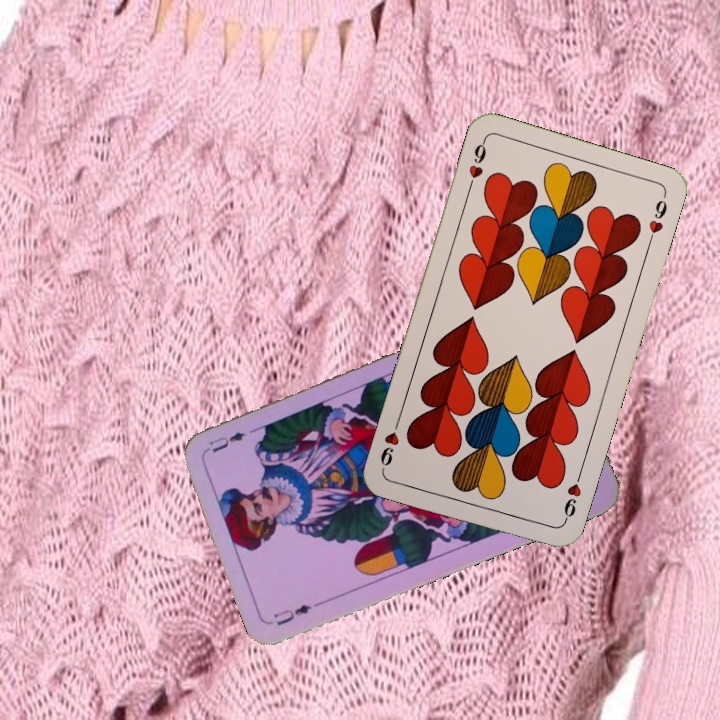EU: (269, 600, 314, 628)
H9: (464, 136, 489, 194), (559, 468, 584, 526)
